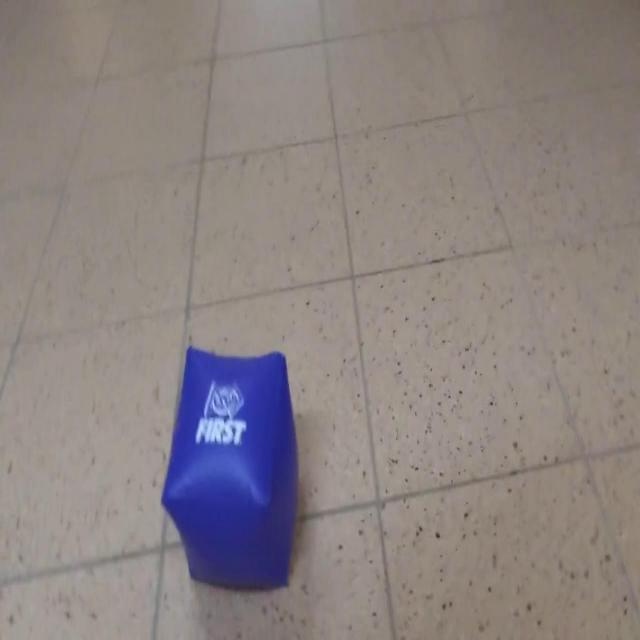frc_cube: (163, 348, 299, 590)
